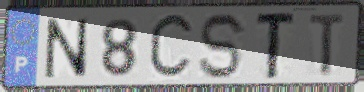8: (98, 17, 142, 79)
C: (146, 10, 197, 85)
N: (43, 16, 90, 80)
S: (198, 11, 250, 82)
T: (254, 9, 299, 81), (307, 11, 348, 79)
